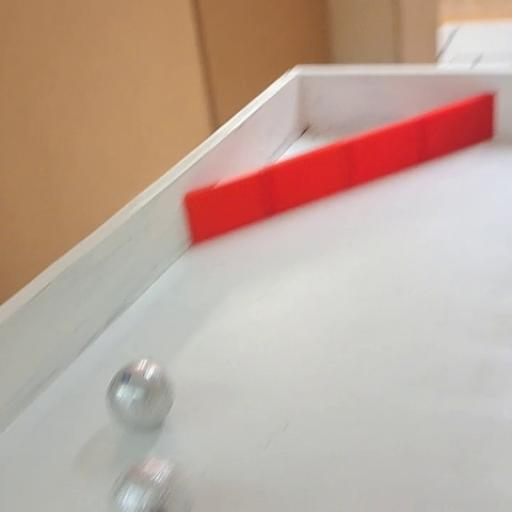alive: (104, 357, 176, 431), (109, 454, 194, 512)
